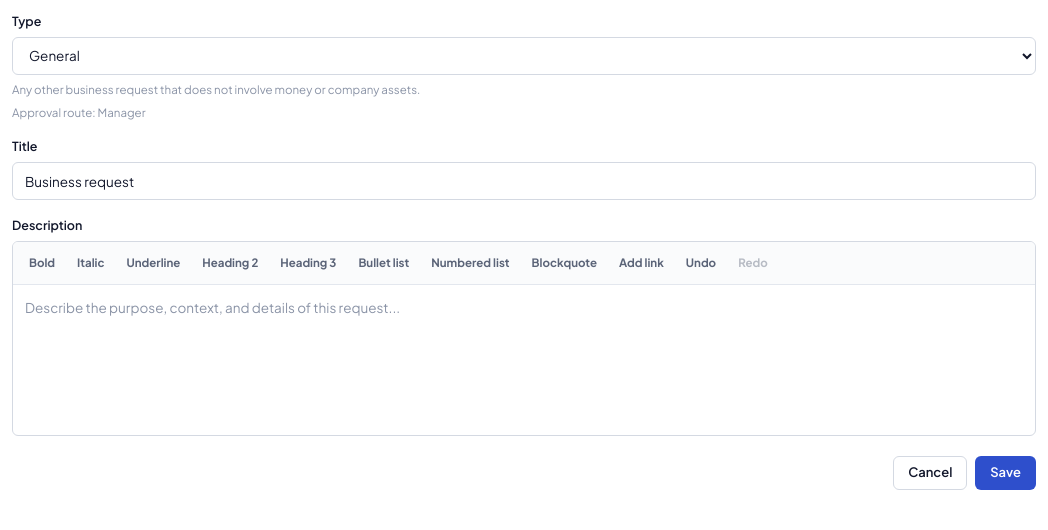
Scenario: RequestForm rich-text integration › rejects a structurally empty rich-text description
What coordinates should you click on to do the following:
click the button "Save"
I would click on:
 (1006, 473)
Its box is [975,456,1036,490].
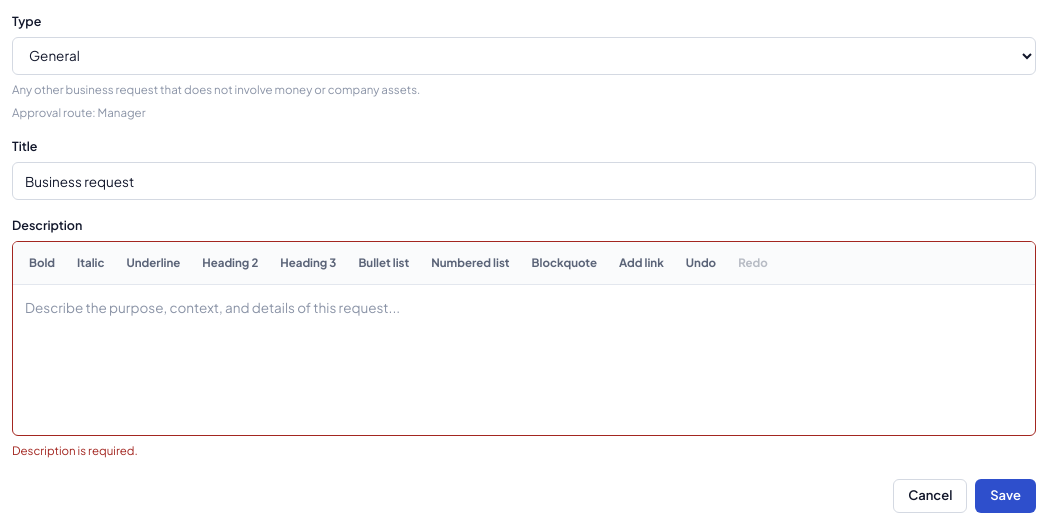
Now the text "Description is required." is shown, box [12,443,138,458]
